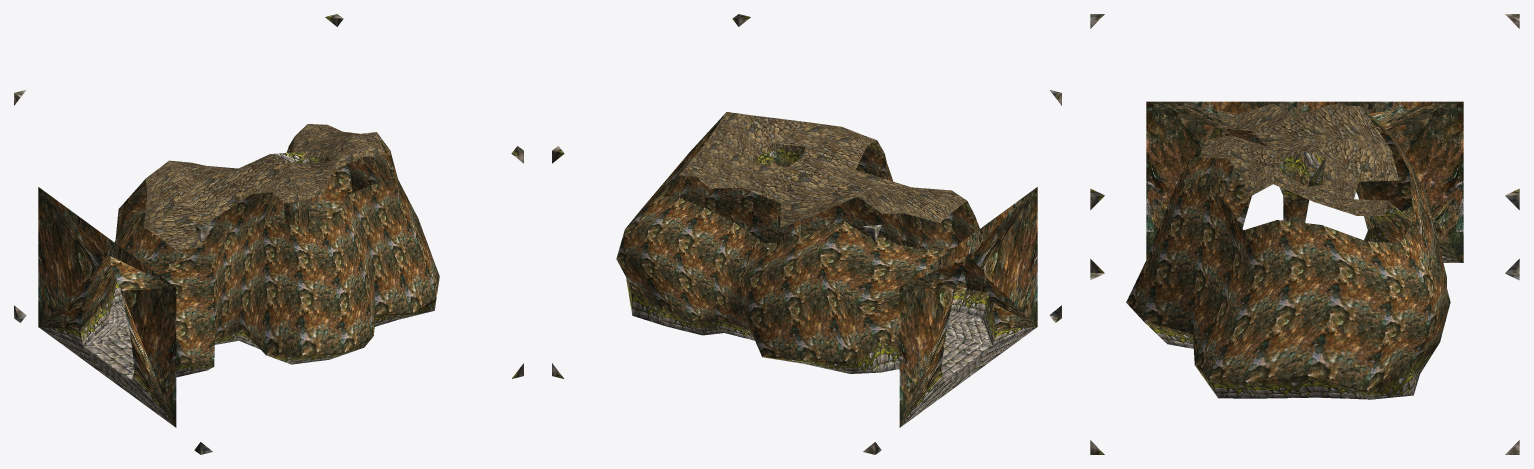
The model's file is lbc_1c.glb.
3 renders of one model, left to right at view 1: azimuth 30°, elevation 25°; view 2: azimuth 150°, elevation 25°; view 3: azimuth 270°, elevation 25°, orthographic. The views are drawn at different scales.
Visible parts, largest first — view 1: lbc_1c; view 2: lbc_1c; view 3: lbc_1c.
Boxes of the visible parts, <box> form: lbc_1c: <box>14,14,523,454</box>; lbc_1c: <box>552,14,1061,454</box>; lbc_1c: <box>1090,14,1519,454</box>.
Size of the model in its own units: 15 by 10 by 15.
Materials: 4 (4 with a texture image).
